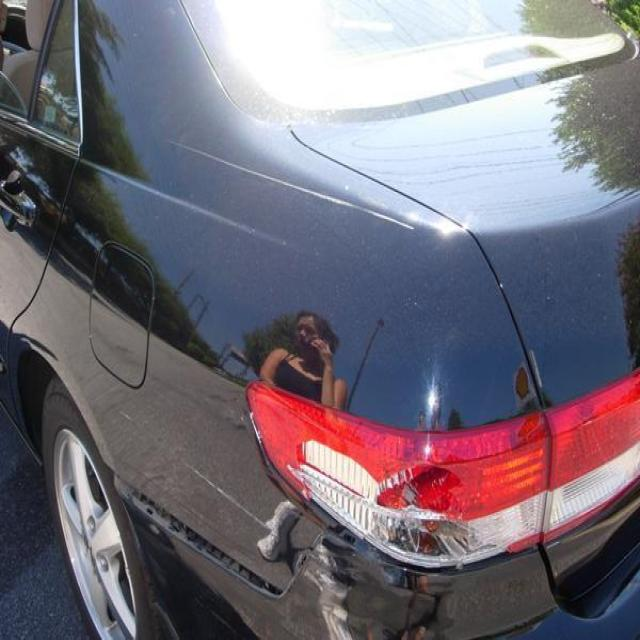crack: (279, 427, 502, 574)
misalignment: (110, 466, 282, 596)
scratch: (185, 461, 271, 534)
